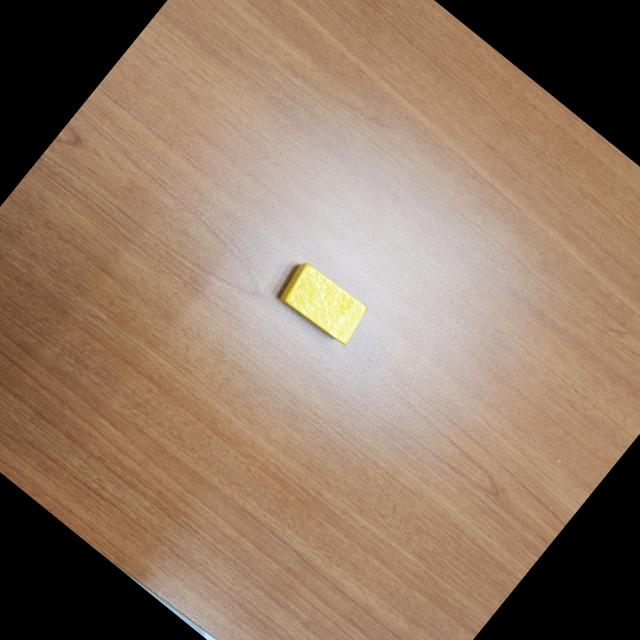yellow: (271, 256, 373, 352)
